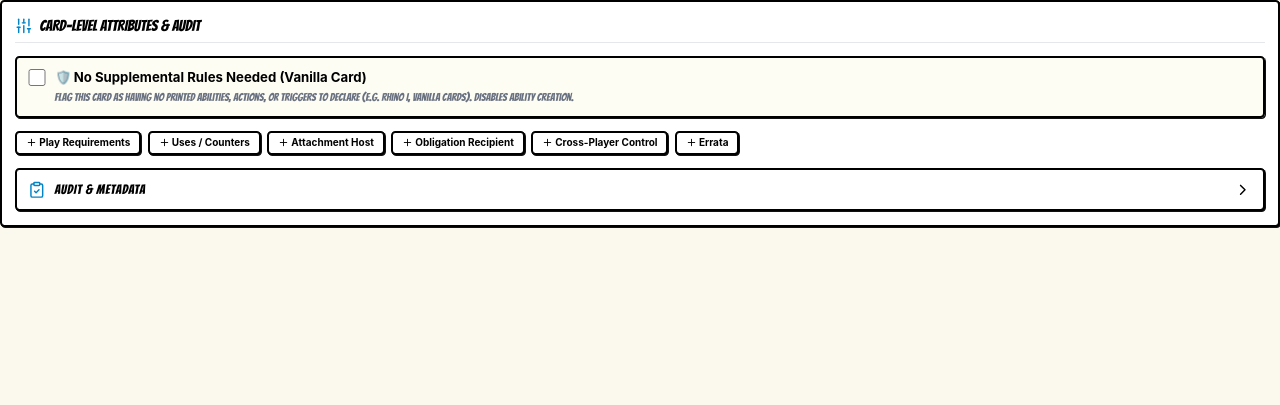
Test: CardAttributesSection audit & metadata › renders read-only audit timestamp badges when present, and omits them when absent
Click the button with test id "section-audit-metadata-toggle" at x=100, y=189, box [28, 181, 1252, 198]
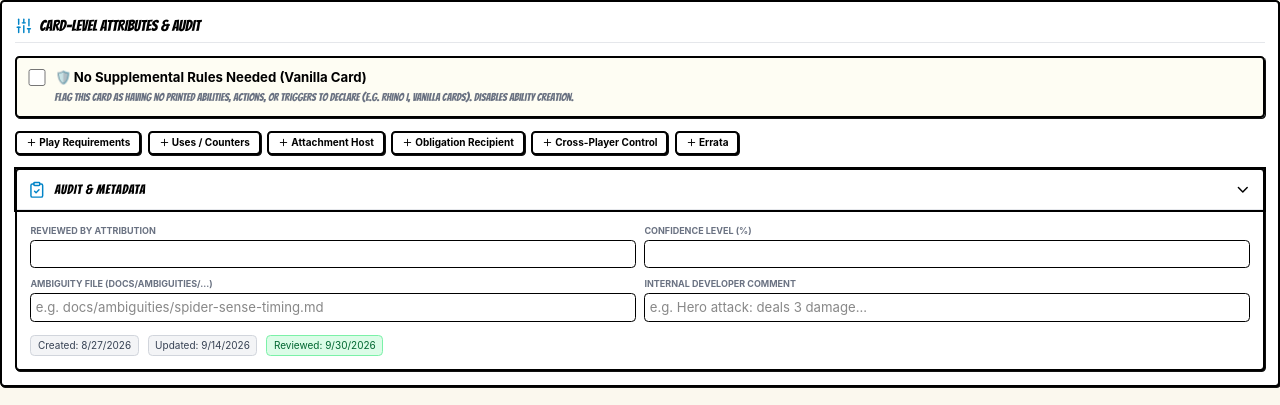
Expected: the text with test id "audit-created-at" shows "Created:", [30, 335, 139, 356]
Expected: the text with test id "audit-updated-at" shows "Updated:", [148, 335, 258, 356]
Expected: the text with test id "audit-reviewed-at" shows "Reviewed:", [266, 335, 383, 356]
